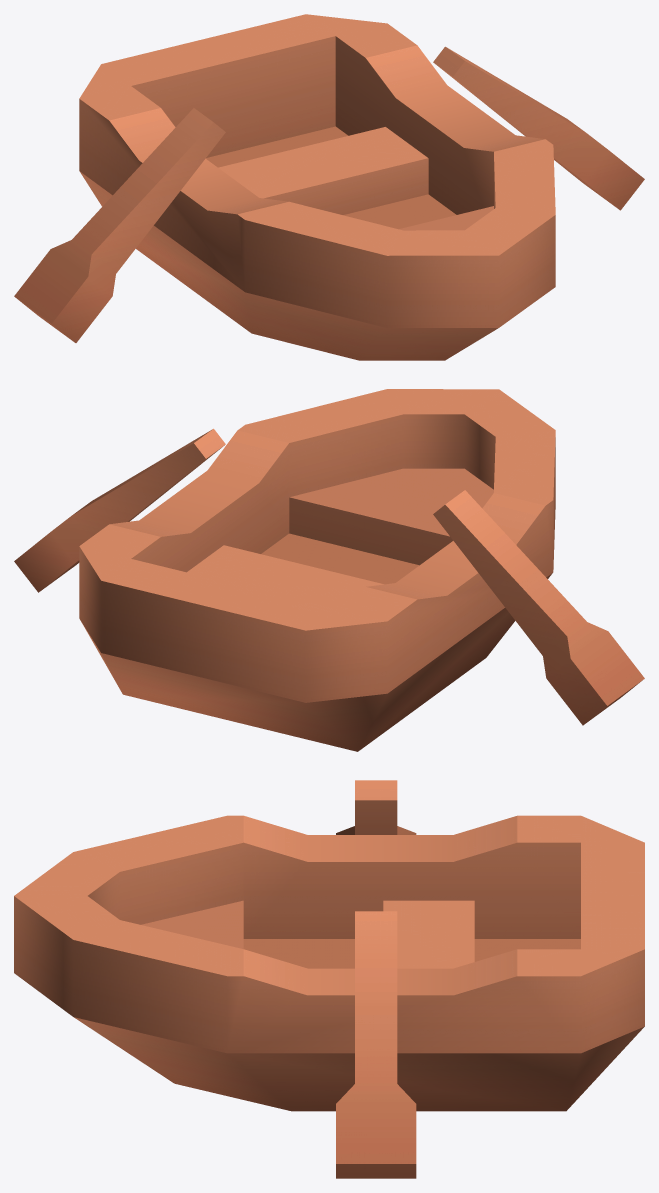
File: boat-row-small-transformed.glb
3 views of the same model, one above another, from view 1: azimuth 30°, elevation 25°; view 2: azimuth 150°, elevation 25°; view 3: azimuth 270°, elevation 25° (orthographic). The views are drawn at different scales.
Visible parts, largest first — view 1: boat-row-small, paddles; view 2: boat-row-small, paddles; view 3: boat-row-small, paddles.
Boxes of the visible parts, <box> form: boat-row-small: <box>79,14,555,360</box>; paddles: <box>14,46,644,342</box>; boat-row-small: <box>79,389,555,751</box>; paddles: <box>14,428,644,725</box>; boat-row-small: <box>14,815,644,1111</box>; paddles: <box>336,780,416,1178</box>.
Size of the model in its own units: 2.75 by 0.8478 by 2.37.
1 material, 1 textured.
